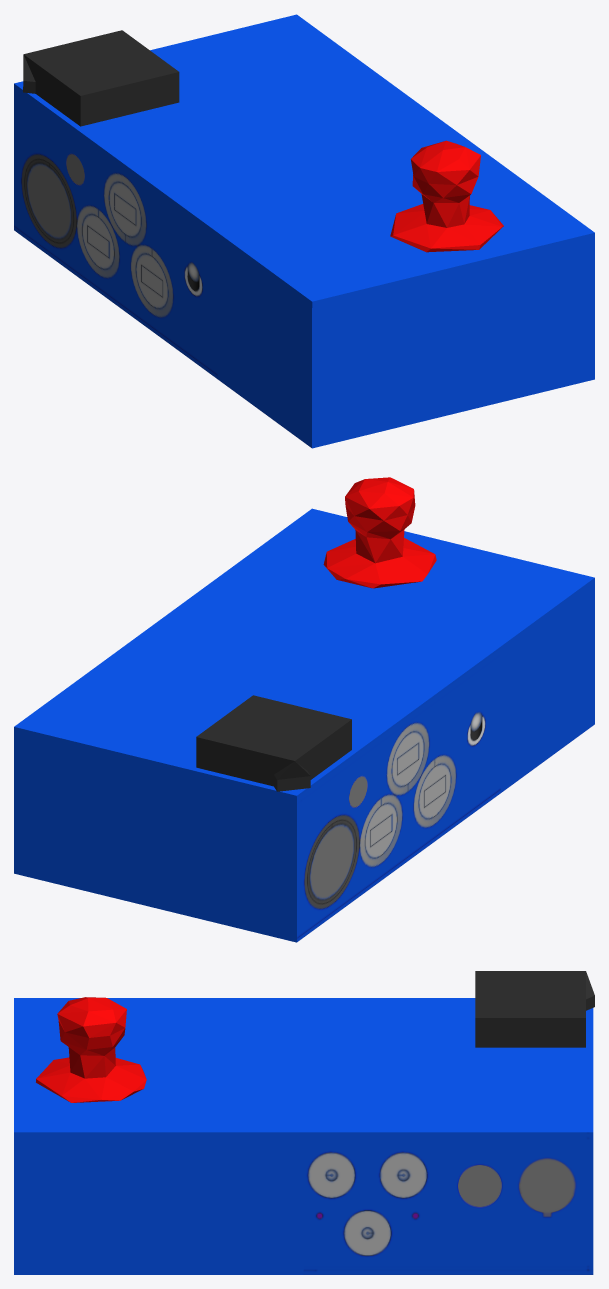
Rendered from top_box_2021_ladybug.dae.
The picture shows the model from 3 angles, top to bottom: view 1: azimuth 30°, elevation 25°; view 2: azimuth 150°, elevation 25°; view 3: azimuth 270°, elevation 25°; orthographic projection. The views are drawn at different scales.
Parts seen in each view (by area): view 1: Top_Box; view 2: Top_Box; view 3: Top_Box.
Part boxes in pixels (x1,y1,x2,y2): Top_Box: [14, 14, 594, 448]; Top_Box: [14, 477, 594, 942]; Top_Box: [14, 971, 594, 1274].
Size of the model in its own units: 0.1271 by 0.2306 by 0.0976.
Materials: 1 (1 with a texture image).
